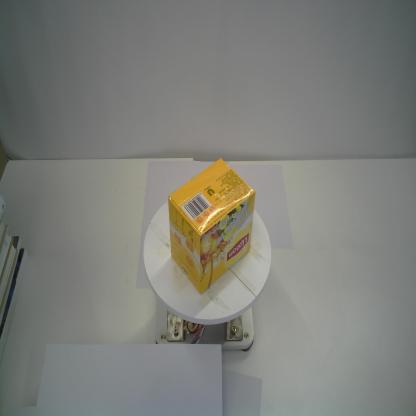Instant Drink: (168, 156, 256, 297)
